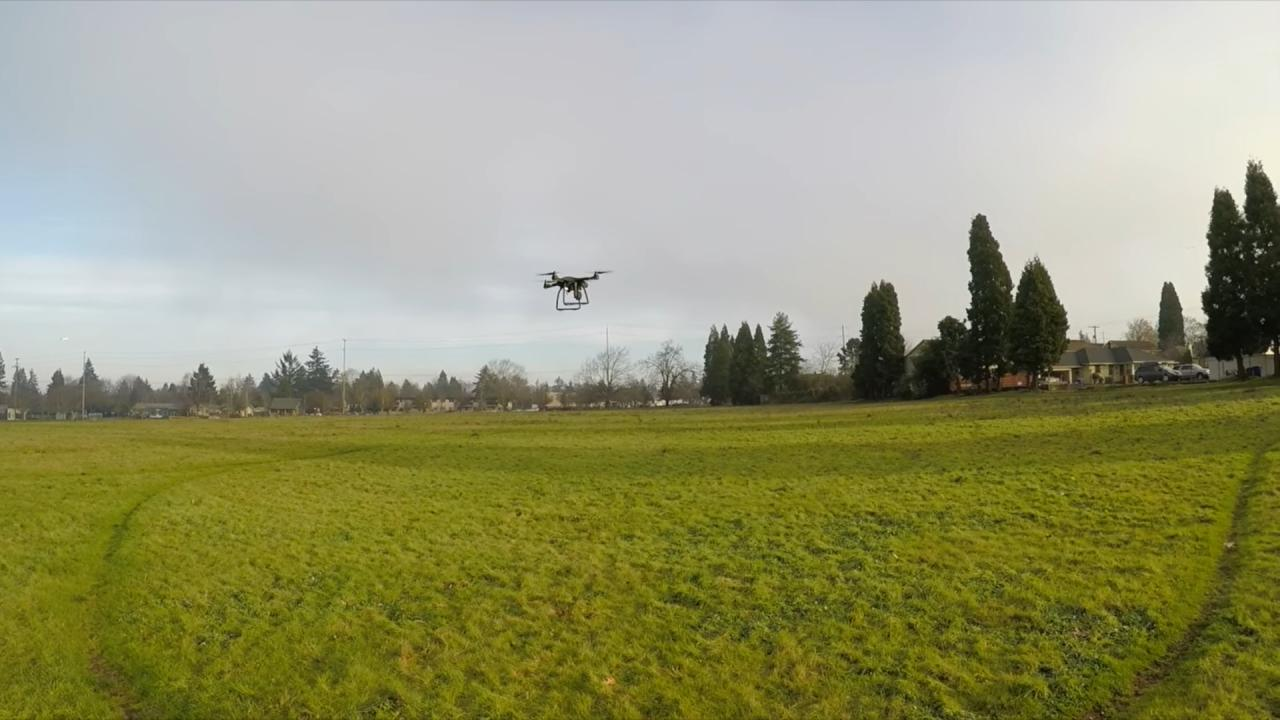Drone: (527, 262, 623, 318)
